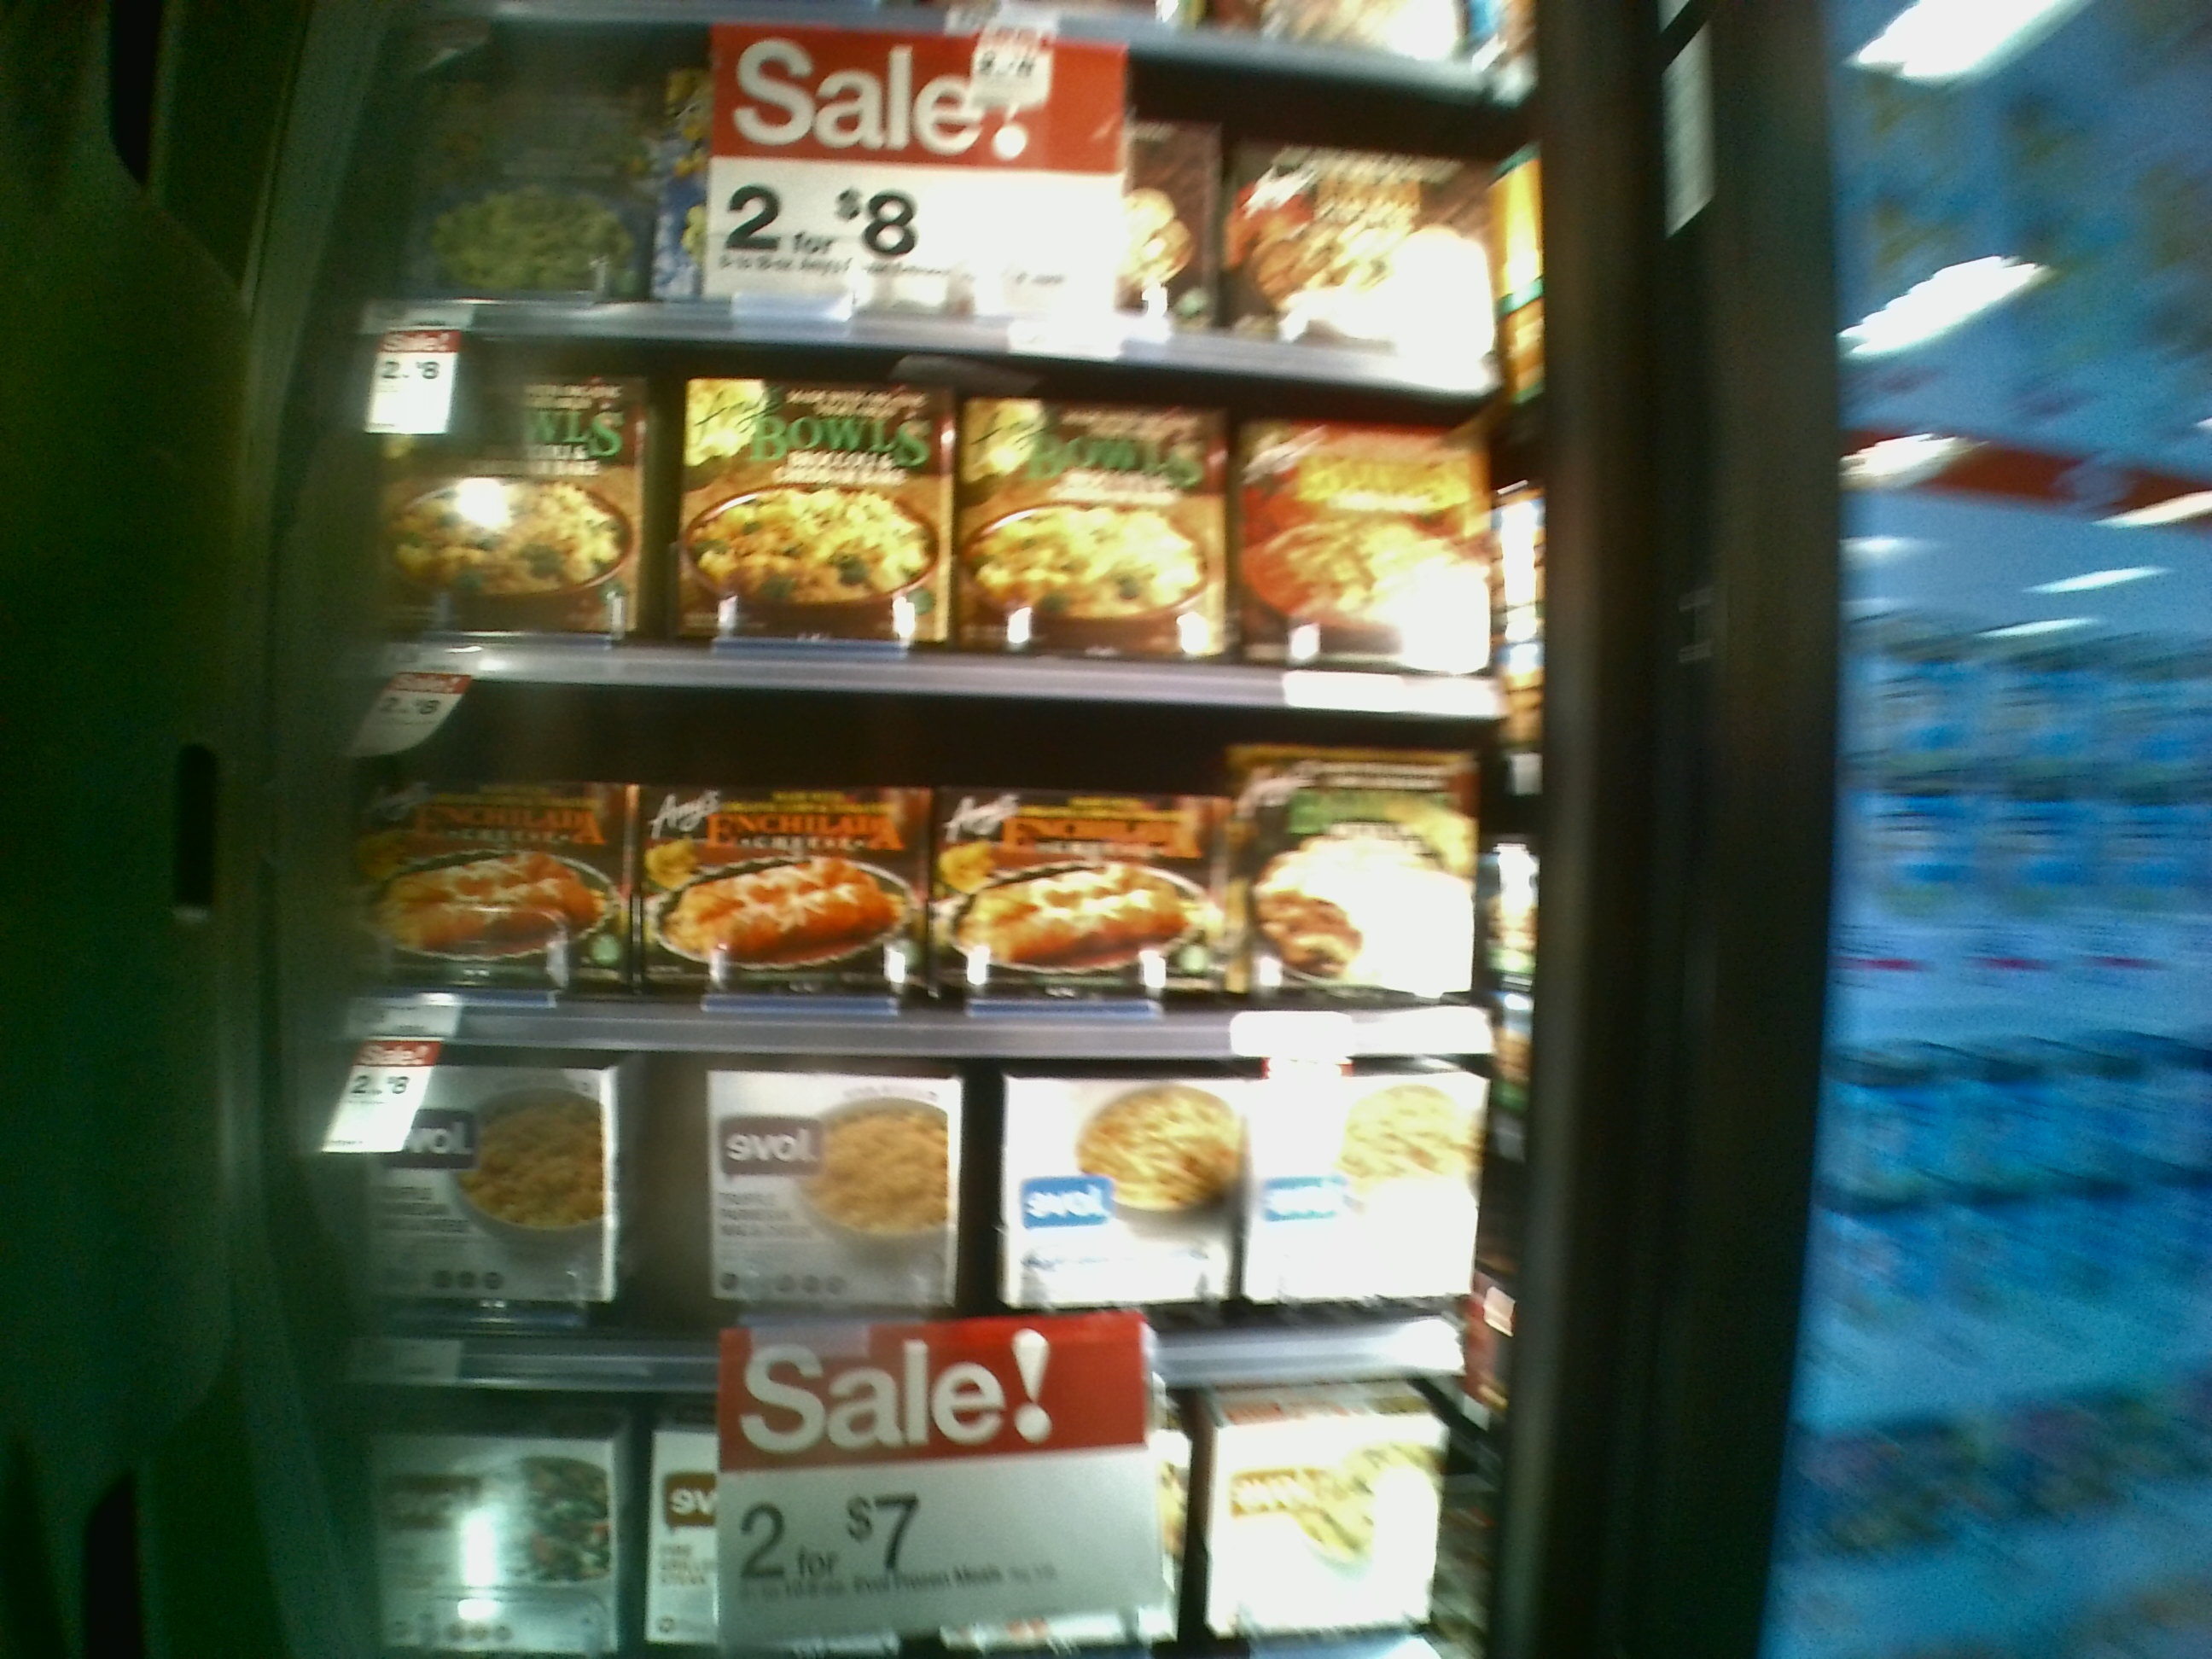shelf: (334, 354, 1514, 706), (333, 706, 1505, 1056), (361, 26, 1517, 369), (340, 1047, 1480, 1377), (343, 1380, 1491, 1659)
